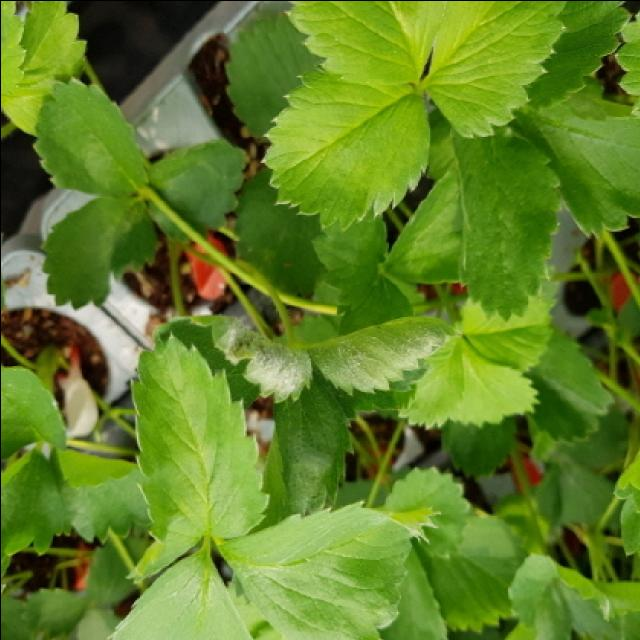Powdery Mildew Leaf: (300, 313, 457, 396), (189, 312, 312, 403)
